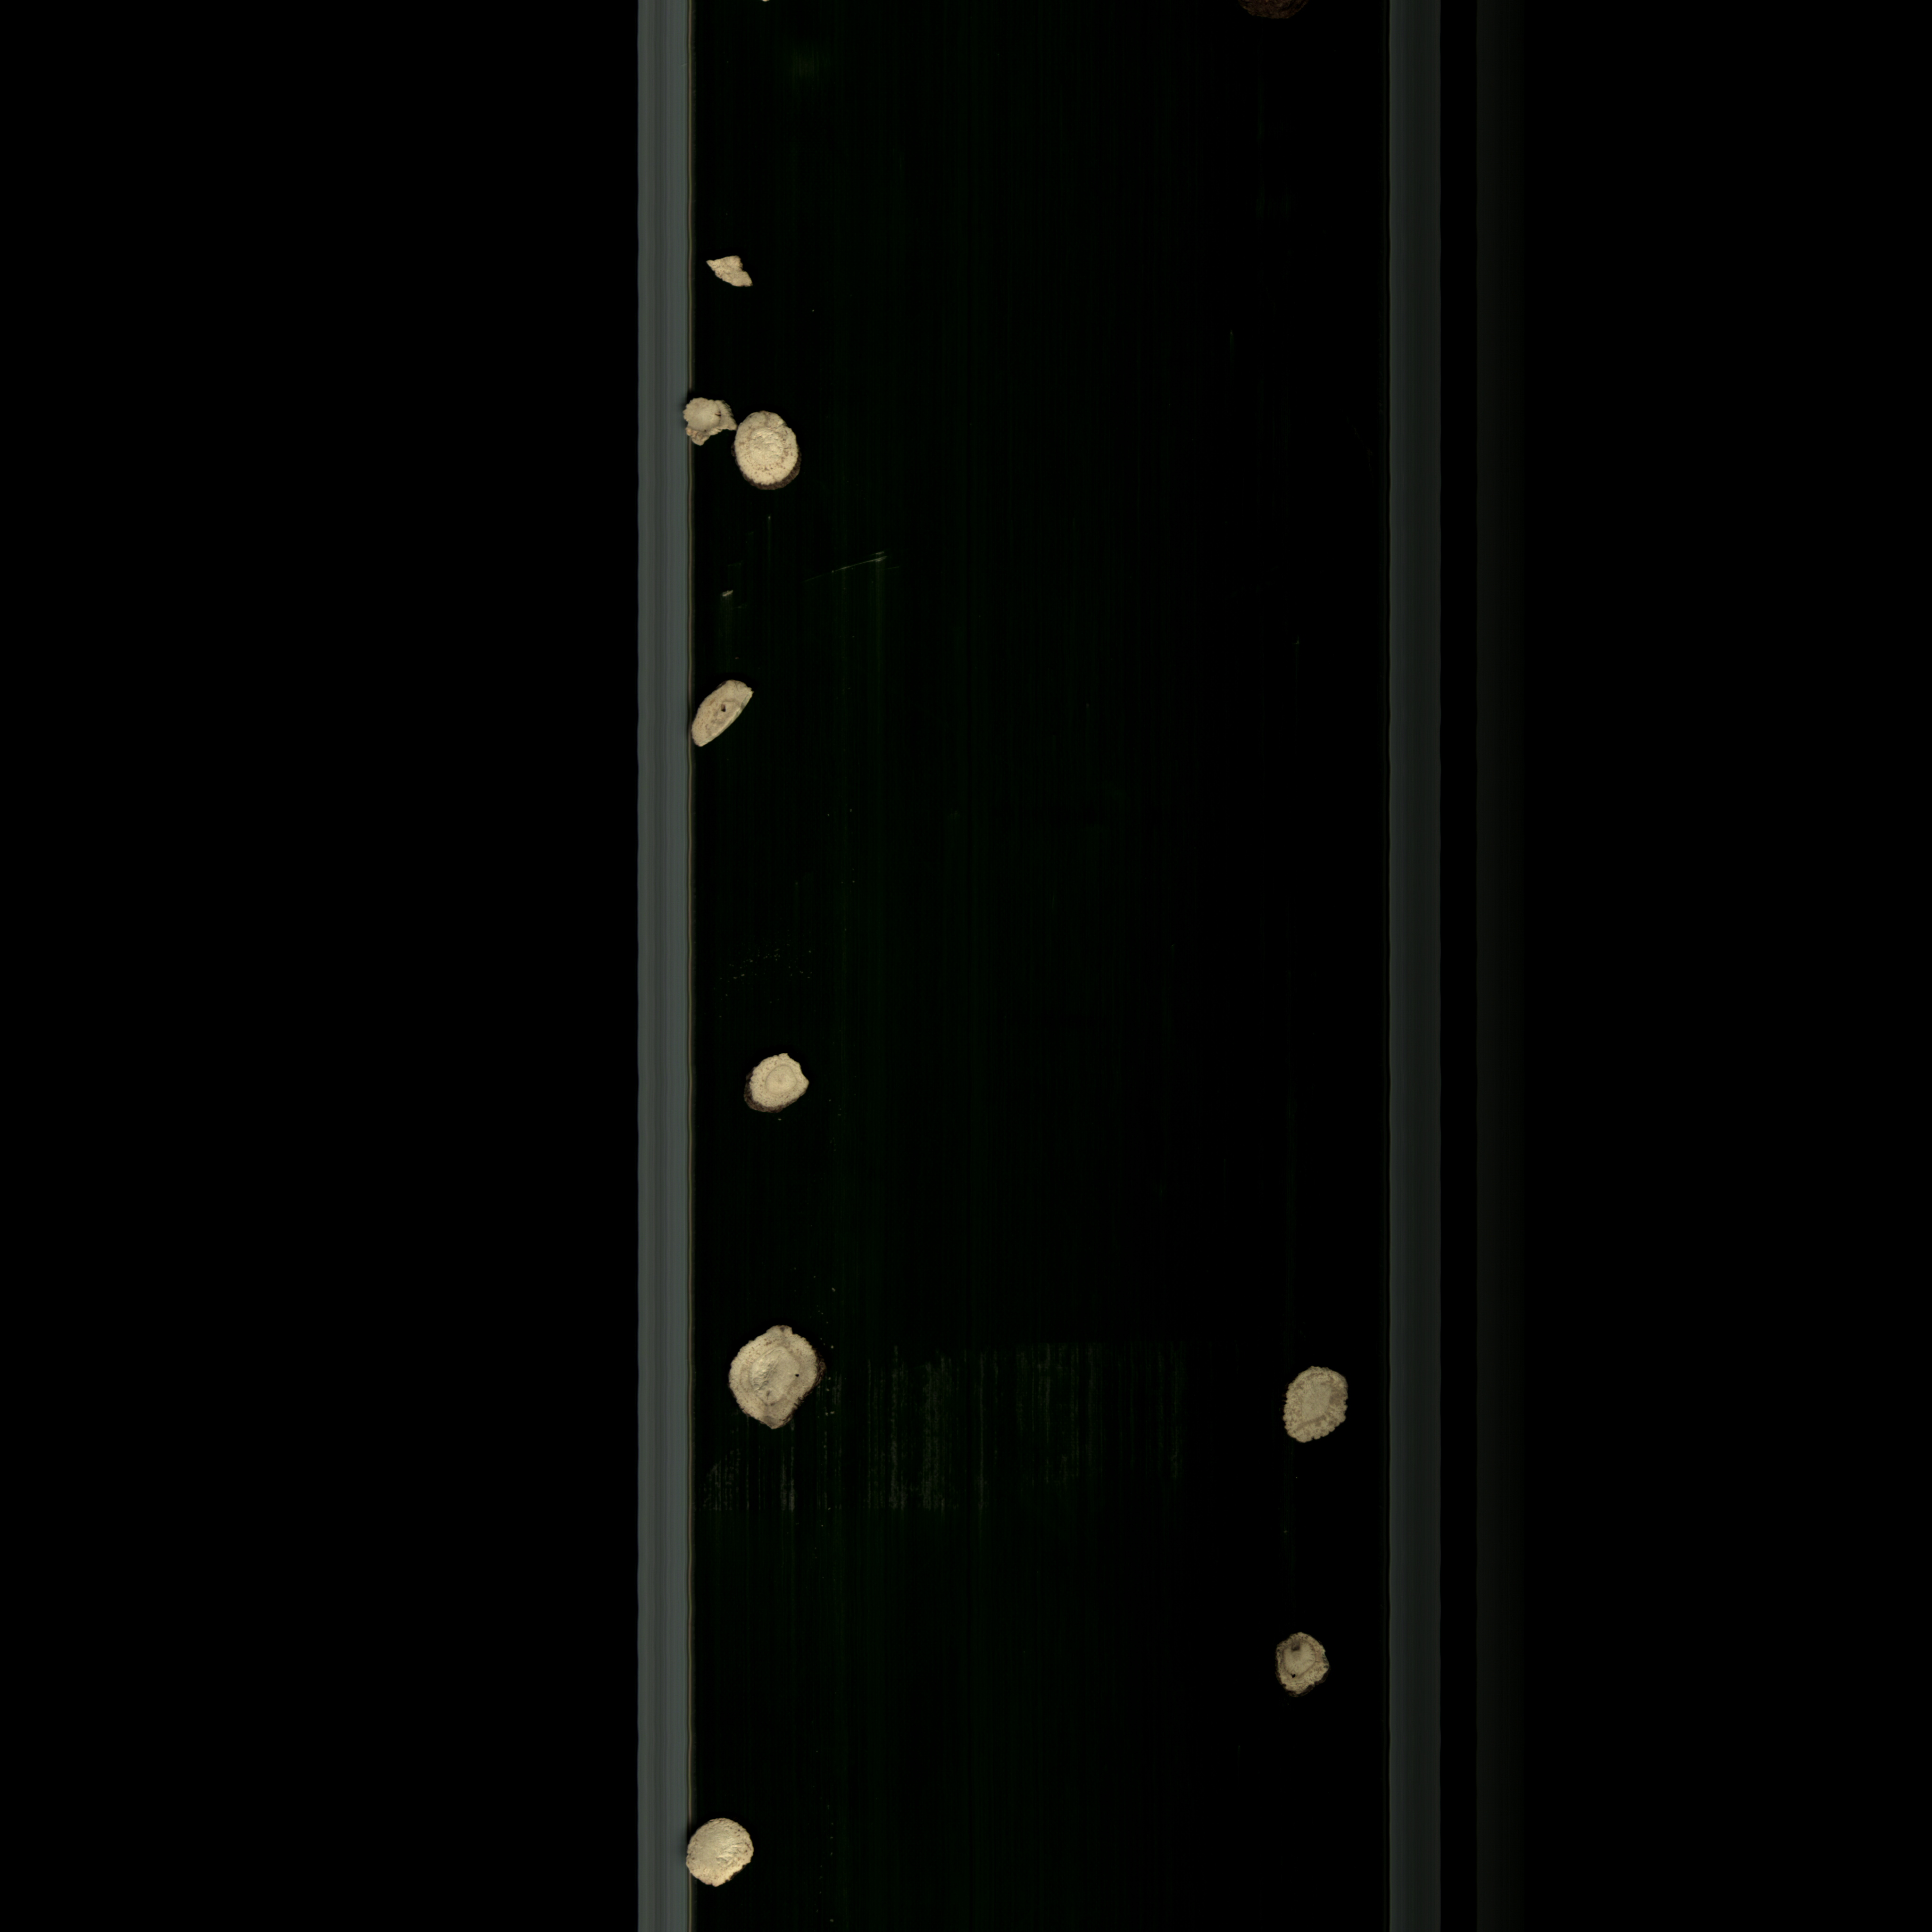debris: (745, 1042, 844, 1118), (679, 1812, 766, 1897), (692, 678, 771, 759), (679, 391, 745, 449), (697, 244, 759, 297)
distortion: (722, 1323, 832, 1445)
moldy: (1276, 1357, 1362, 1460), (1261, 1626, 1339, 1716)
